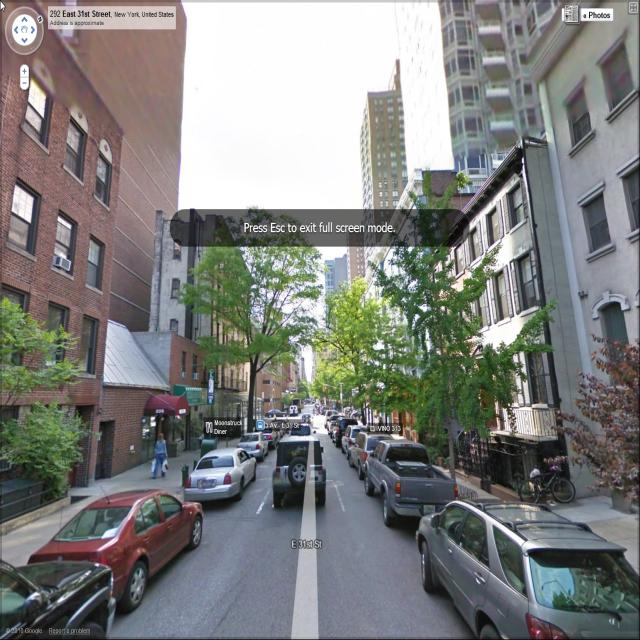b_1: (0, 16, 128, 468), (352, 78, 420, 252)
b_2: (432, 126, 560, 512), (533, 8, 640, 431), (346, 178, 442, 441), (158, 208, 258, 414), (438, 4, 565, 161), (87, 297, 207, 458), (239, 310, 307, 424), (308, 248, 358, 400)
